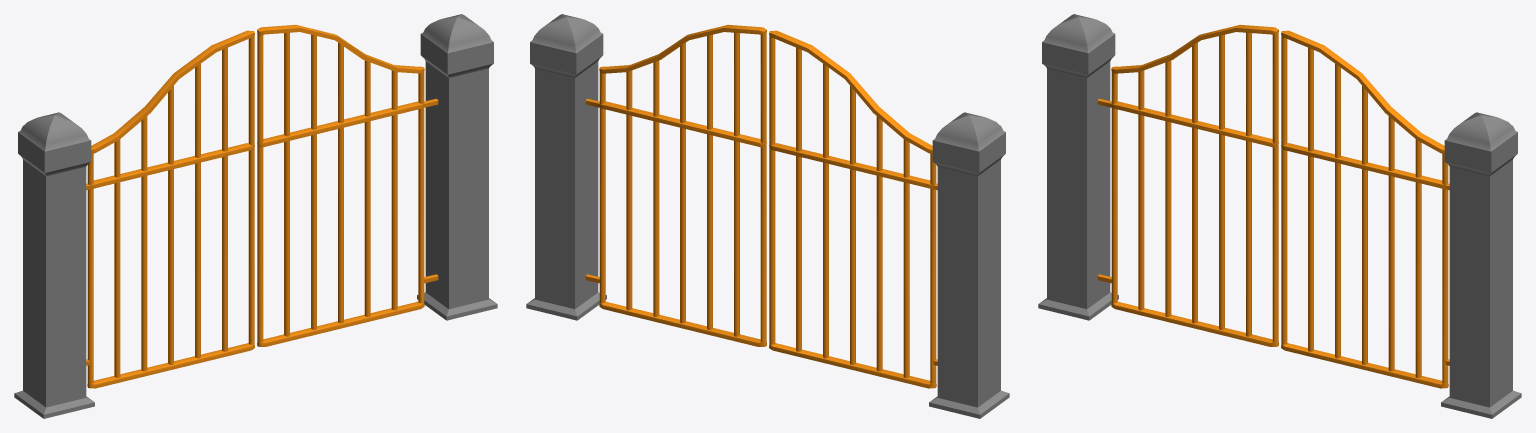
Rendered from gate_angel.obj.
3 views of the same model, side by side, from view 1: azimuth 30°, elevation 25°; view 2: azimuth 150°, elevation 25°; view 3: azimuth 330°, elevation 25° (orthographic).
Visible parts, largest first — view 1: 0, 1; view 2: 0, 1; view 3: 0, 1.
Boxes of the visible parts, bbox=[...] form: 0: bbox=[14, 14, 497, 418]; 1: bbox=[86, 24, 438, 388]; 0: bbox=[526, 14, 1009, 418]; 1: bbox=[585, 24, 937, 388]; 0: bbox=[1038, 14, 1521, 418]; 1: bbox=[1097, 24, 1449, 388].
Bounding box in the file's own units: 1.24 × 0.8435 × 0.1395.
